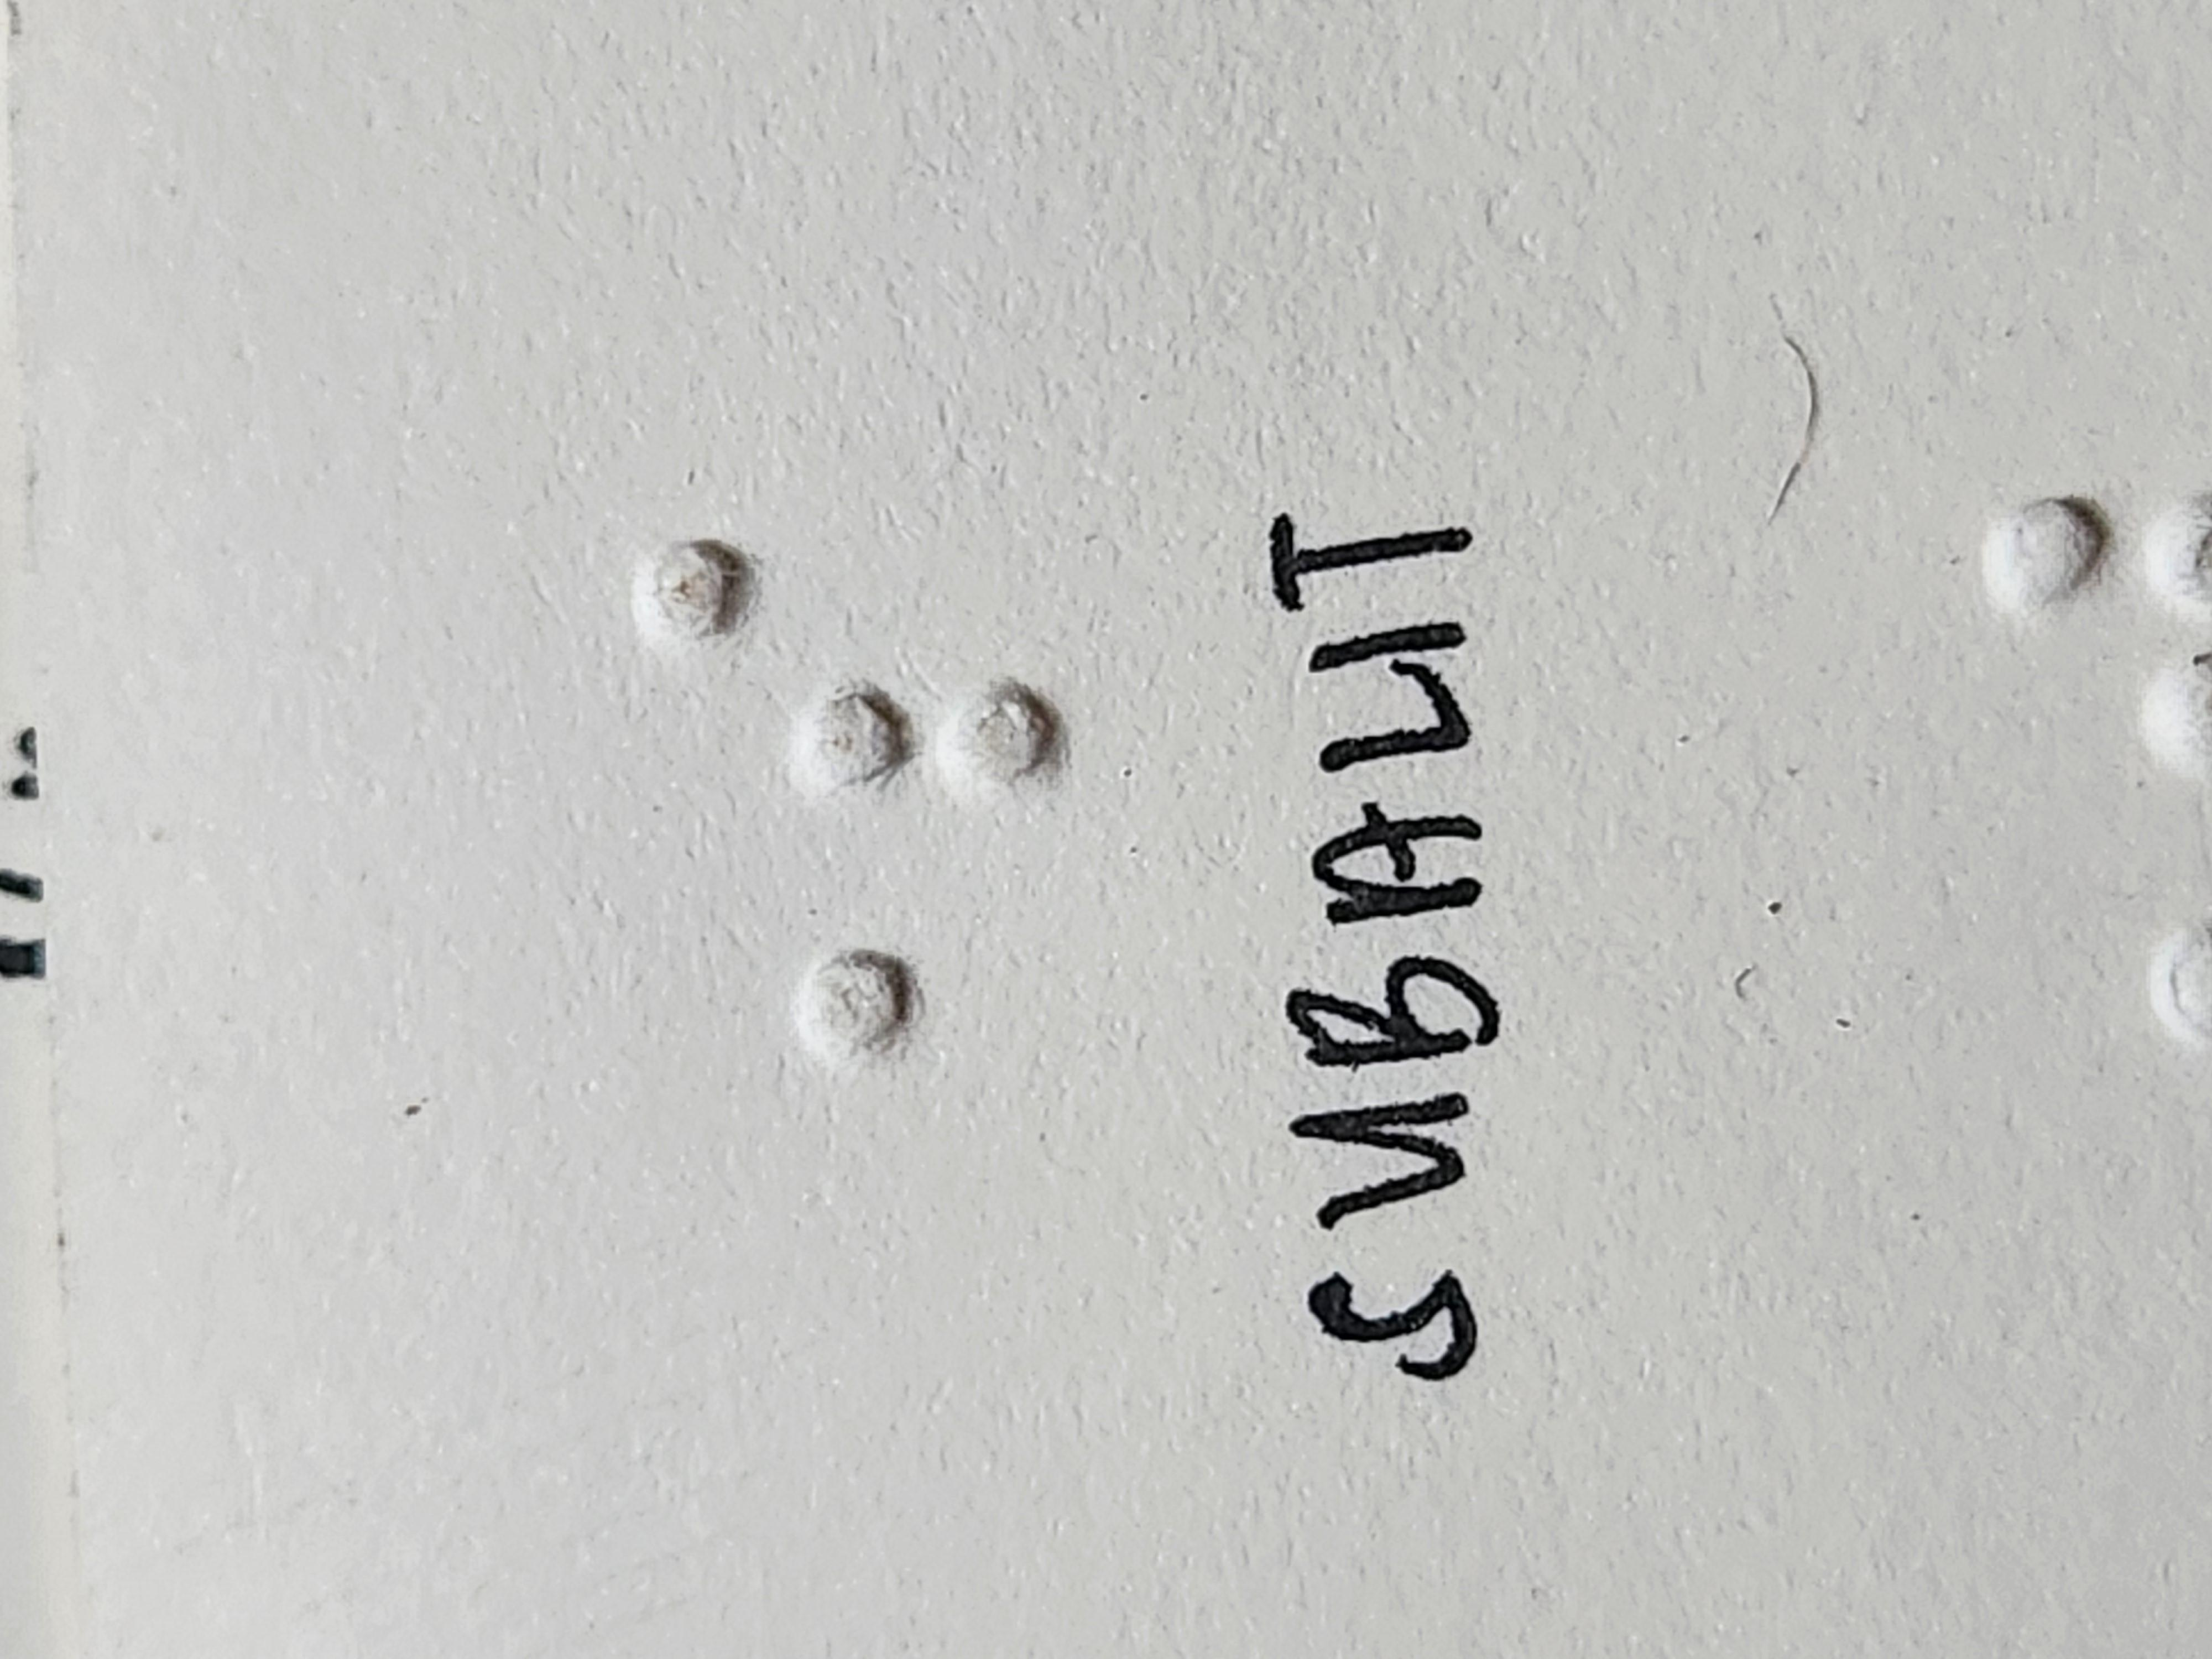dot_5: (582, 483, 951, 816)
two_cell_alphabet_subalit: (1137, 469, 1505, 802)
